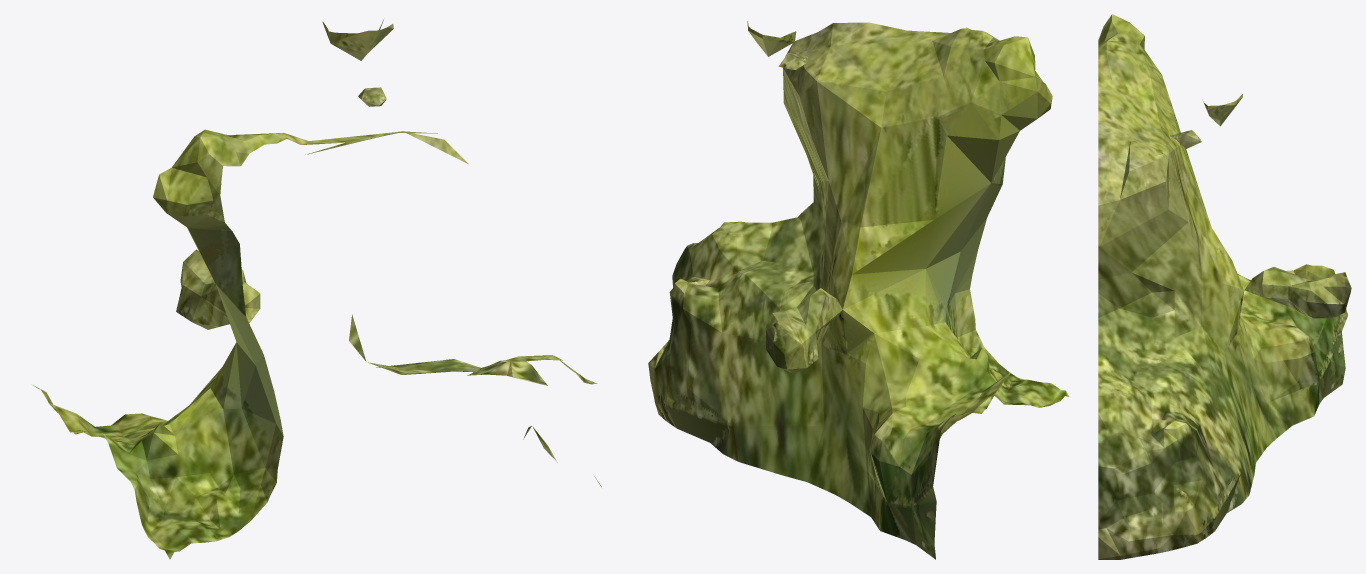
3 views of the same model, side by side, from view 1: azimuth 30°, elevation 25°; view 2: azimuth 150°, elevation 25°; view 3: azimuth 270°, elevation 25° (orthographic). The views are drawn at different scales.
Bounding box in the file's own units: 2.84 × 2.95 × 1.72.
3 materials, 3 textured.
